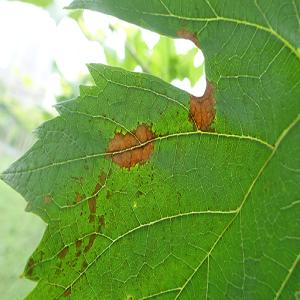Folha: (0, 0, 299, 298)
Fungo: (21, 73, 218, 296), (56, 121, 156, 260), (175, 25, 217, 132), (104, 121, 156, 171), (187, 77, 217, 131), (75, 238, 81, 248)
